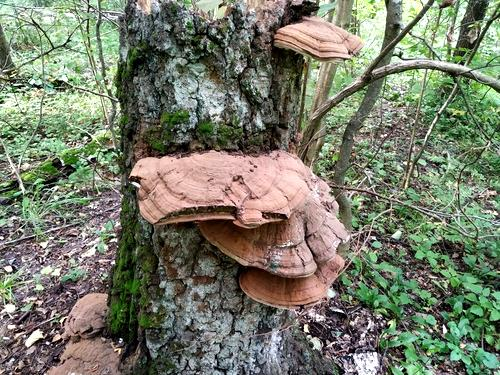Ganoderma - Fruit Body: (131, 150, 345, 310), (273, 12, 364, 64)
